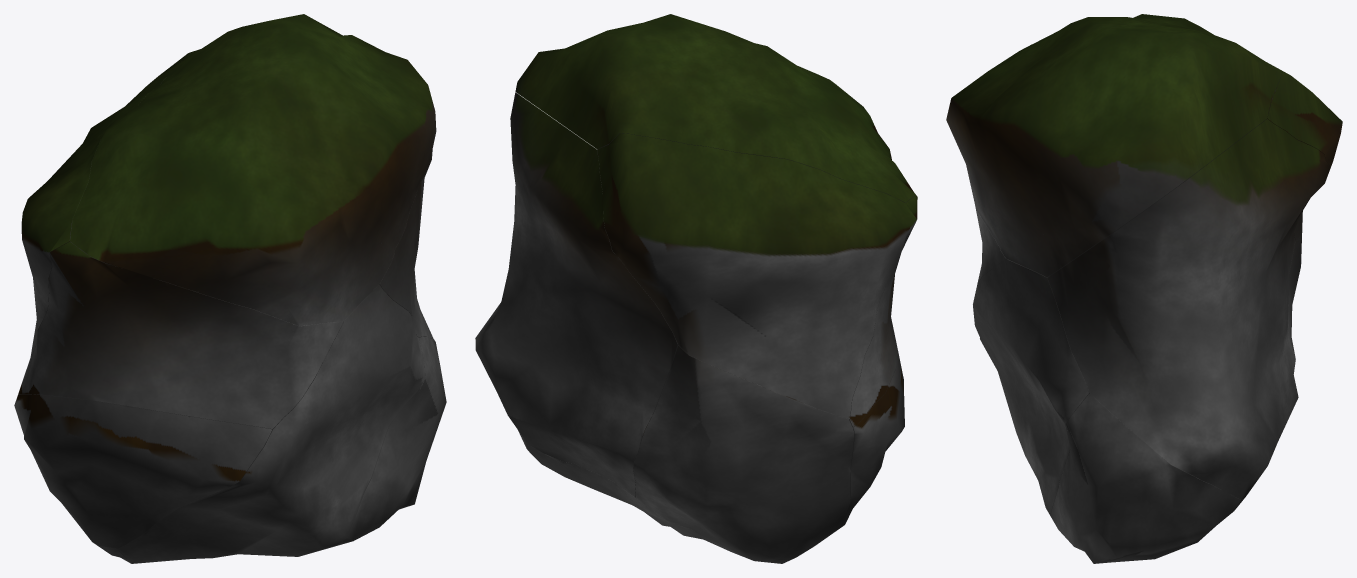
Rendered from island_piece_1.fbx.
The picture shows the model from 3 angles, left to right: view 1: azimuth 30°, elevation 25°; view 2: azimuth 150°, elevation 25°; view 3: azimuth 270°, elevation 25°; orthographic projection. The views are drawn at different scales.
Visible parts, largest first — view 1: rock_cell, rock_cell.009, rock_cell.003, rock_cell.004, rock_cell.015, rock_cell.012, rock_cell.010; view 2: rock_cell.012, rock_cell.010, rock_cell, rock_cell.007, rock_cell.004, rock_cell.009, rock_cell.015; view 3: rock_cell.010, rock_cell, rock_cell.015, rock_cell.003, rock_cell.012, rock_cell.009, rock_cell.007.
Boxes of the visible parts, x1,y1,x2,y2 form: rock_cell: (70, 14, 436, 326); rock_cell.009: (18, 241, 343, 428); rock_cell.003: (118, 284, 425, 563); rock_cell.004: (14, 394, 272, 548); rock_cell.015: (298, 336, 446, 556); rock_cell.012: (21, 50, 195, 383); rock_cell.010: (380, 155, 432, 338); rock_cell.012: (597, 133, 916, 419); rock_cell.010: (475, 92, 677, 497); rock_cell: (515, 14, 915, 202); rock_cell.007: (633, 345, 854, 563); rock_cell.004: (838, 350, 904, 529); rock_cell.009: (850, 194, 917, 426); rock_cell.015: (522, 439, 742, 556); rock_cell.010: (1047, 119, 1330, 499); rock_cell: (946, 14, 1282, 277); rock_cell.015: (1050, 393, 1242, 563); rock_cell.003: (973, 259, 1089, 514); rock_cell.012: (1267, 69, 1342, 240); rock_cell.009: (976, 209, 1005, 283); rock_cell.007: (1288, 239, 1301, 353).
Size of the model in its own units: 320 by 379 by 263.
1 material, 1 textured.
